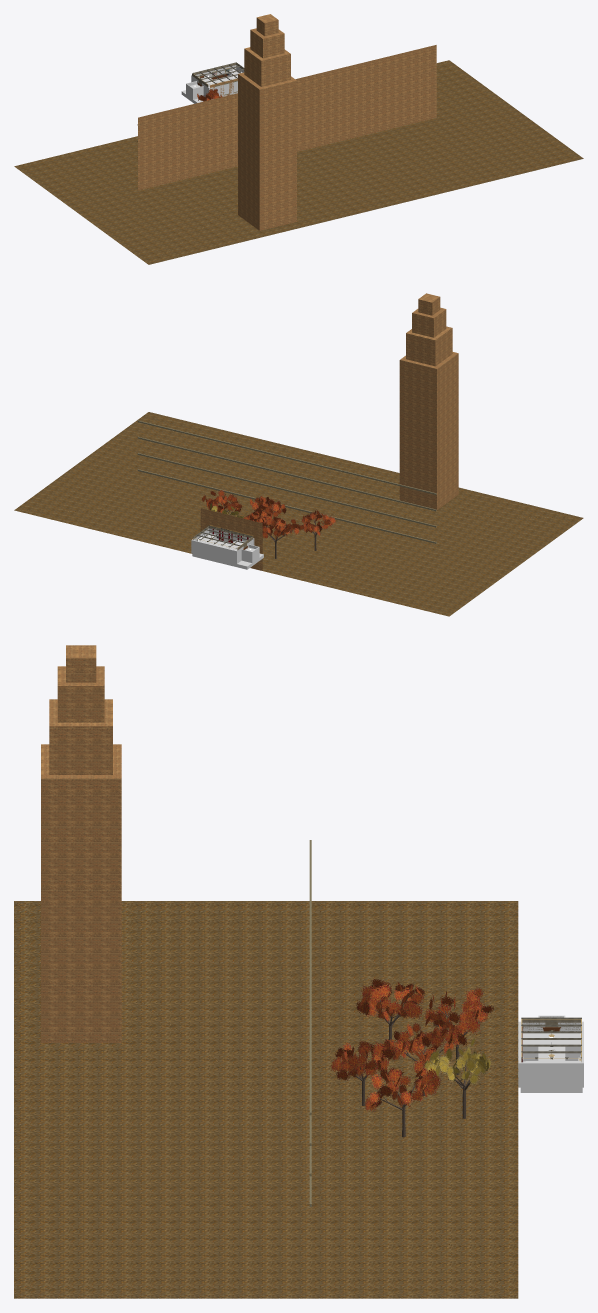
File: soutenance.glb
The picture shows the model from 3 angles, top to bottom: view 1: azimuth 30°, elevation 25°; view 2: azimuth 150°, elevation 25°; view 3: azimuth 270°, elevation 25°; orthographic projection. The views are drawn at different scales.
Visible parts, largest first — view 1: soutenance_sol_feuilles_lm0, soutenance_brique_rg_lm0, soutenance_platre_plafond_lm0; view 2: soutenance_sol_feuilles_lm0, soutenance_brique_rg_lm0, soutenance_pierre_rg_lm0, soutenance_feuillage_erable_lm0, COL_mur_nord, soutenance_platre_plafond_lm0; view 3: soutenance_sol_feuilles_lm0, soutenance_brique_rg_lm0, soutenance_feuillage_erable_lm0, COL_mur_est, soutenance_feuillage_fevier_lm0, soutenance_pierre_rg_lm0, soutenance_ecorce_lm0, soutenance_platre_plafond_lm0, TRIGGER_sol_bois.
Part boxes in pixels (x1,y1,x2,y2): soutenance_sol_feuilles_lm0: (14, 60, 583, 264); soutenance_brique_rg_lm0: (138, 14, 436, 230); soutenance_platre_plafond_lm0: (193, 62, 244, 86); soutenance_sol_feuilles_lm0: (14, 412, 583, 616); soutenance_brique_rg_lm0: (200, 293, 458, 570); soutenance_pierre_rg_lm0: (137, 420, 436, 543); soutenance_feuillage_erable_lm0: (201, 490, 335, 539); COL_mur_nord: (191, 540, 237, 564); soutenance_platre_plafond_lm0: (193, 526, 252, 548); soutenance_sol_feuilles_lm0: (14, 901, 518, 1298); soutenance_brique_rg_lm0: (41, 645, 121, 1042); soutenance_feuillage_erable_lm0: (331, 979, 493, 1111); COL_mur_est: (519, 1062, 583, 1087); soutenance_feuillage_fevier_lm0: (424, 1038, 491, 1084); soutenance_pierre_rg_lm0: (309, 840, 518, 1206); soutenance_ecorce_lm0: (348, 995, 484, 1137); soutenance_platre_plafond_lm0: (521, 1018, 581, 1061); TRIGGER_sol_bois: (522, 1033, 580, 1061).
Size of the model in its own units: 140 by 61.4 by 84.8.
42 materials, 28 textured.
